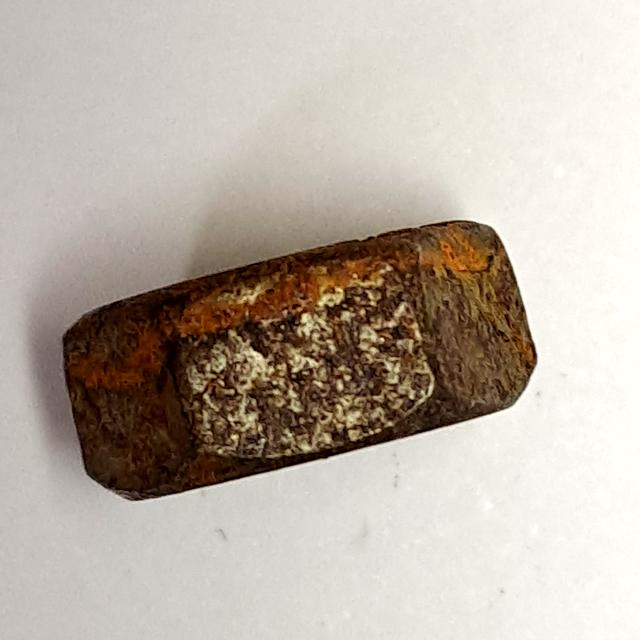Side_Rust: (46, 203, 561, 522)
